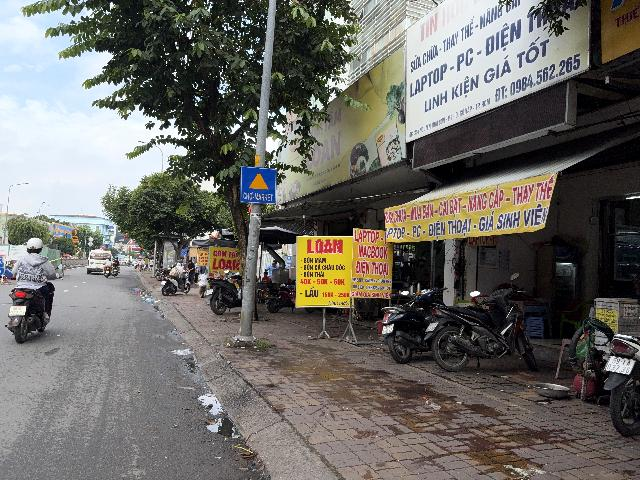khu-vuc-cho-phia-truoc: (241, 165, 276, 205)
